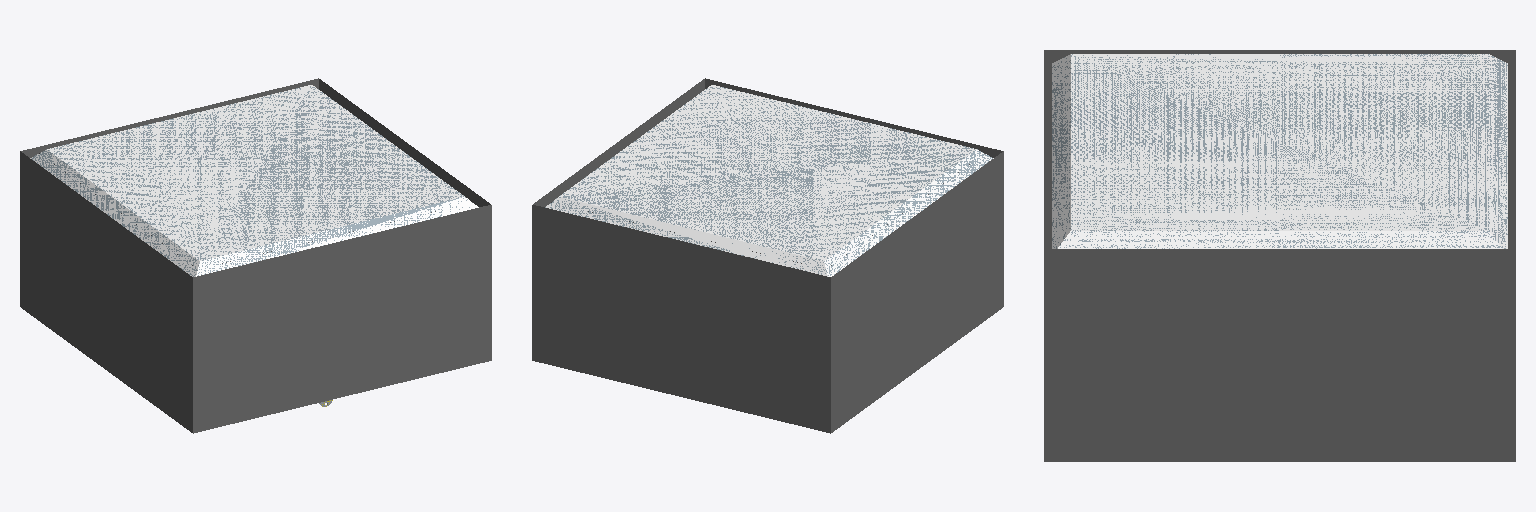
URDF robot description (right-pull-door):
<?xml version="1.0" ?>
<robot name="right-pull-door">
	<link name="base"/>
	<link name="link_0">
		<visual name="out-frame">
			<origin xyz="0 0 0"/>
			<geometry>
				<mesh filename="texture_dae/frame.dae" scale="1.2 1.2 1.2"/>
			</geometry>
		</visual>
		<collision>
			<origin xyz="0 0 0"/>
			<geometry>
				<mesh filename="texture_dae/frame.dae" scale="1.2 1.2 1.2"/>
			</geometry>
		</collision>
	</link>
	<joint name="joint_0" type="fixed">
		<origin rpy="1.570796326794897 0 -1.570796326794897" xyz="0 0 0"/>
		<child link="link_0"/>
		<parent link="base"/>
	</joint>
	<link name="link_1">
		<visual name="surf-board">
			<origin xyz="0.5364193039600399 -0.290739365736016 0"/>
			<geometry>
				<mesh filename="texture_dae/board.dae" scale="1.2 1.2 1.2"/>
			</geometry>
		</visual>
		<collision>
			<origin xyz="0.5364193039600399 -0.290739365736016 0"/>
			<geometry>
				<mesh filename="texture_dae/board.dae" scale="1.2 1.2 1.2"/>
			</geometry>
		</collision>
	</link>
	<joint name="joint_1" type="revolute">
		<origin xyz="-0.5364193039600399 0.290739365736016 0"/>
		<axis xyz="0 -1 0"/>
		<child link="link_1"/>
		<parent link="link_0"/>
		<limit lower="0" upper="1.5079644737231006"/>
	</joint>
	<link name="link_2">
		<visual name="handle">
			<origin xyz="0 0 0"/>
			<geometry>
				<mesh filename="texture_dae/9961601-handle-right.dae" scale="1.6905068656142528 1.6905068656142528 1.6905068656142528"/>
			</geometry>
		</visual>
		<collision>
			<origin xyz="0 0 0"/>
			<geometry>
				<mesh filename="texture_dae/9961601-handle-right.dae" scale="1.6905068656142528 1.6905068656142528 1.6905068656142528"/>
			</geometry>
		</collision>
	</link>
	<joint name="joint_2" type="revolute">
		<origin xyz="0 0 0"/>
		<child link="link_2"/>
		<parent link="link_3"/>
		<axis xyz="0 0 1"/>
		<limit lower="0" upper="1.5079644737231006"/>
	</joint>
	<link name="link_3">
		<visual name="lock">
			<origin xyz="0 0 0"/>
			<geometry>
				<mesh filename="texture_dae/9961601-lock-right.dae" scale="1.6905068656142528 1.6905068656142528 1.6905068656142528"/>
			</geometry>
		</visual>
		<collision>
			<origin xyz="0 0 0"/>
			<geometry>
				<mesh filename="texture_dae/9961601-lock-right.dae" scale="1.6905068656142528 1.6905068656142528 1.6905068656142528"/>
			</geometry>
		</collision>
	</link>
	<joint name="joint_3" type="fixed">
		<origin xyz="0.5364193039600399 -0.290739365736016 0.00024330833280624268"/>
		<child link="link_3"/>
		<parent link="link_1"/>
	</joint>
</robot>

--- Facts derived from the render (not from the file) ---
3 views of the same robot in one strip: view 1: azimuth 30°, elevation 25°; view 2: azimuth 150°, elevation 25°; view 3: azimuth 270°, elevation 25° (orthographic).
Robot: right-pull-door — 5 links, 4 joints (2 revolute, 2 fixed); root link base; default pose: every joint at zero.
Links seen in each view (by area): view 1: link_0; view 2: link_0; view 3: link_0.
Link boxes in pixels (bbox=[...]): link_0: bbox=[20, 78, 491, 433]; link_0: bbox=[532, 78, 1003, 433]; link_0: bbox=[1044, 50, 1515, 461].
Size in the robot's own frame: 0.6 by 0.6 by 0.3489 metres.
4 mesh visuals loaded from 4 distinct referenced files (4 Collada DAE).
